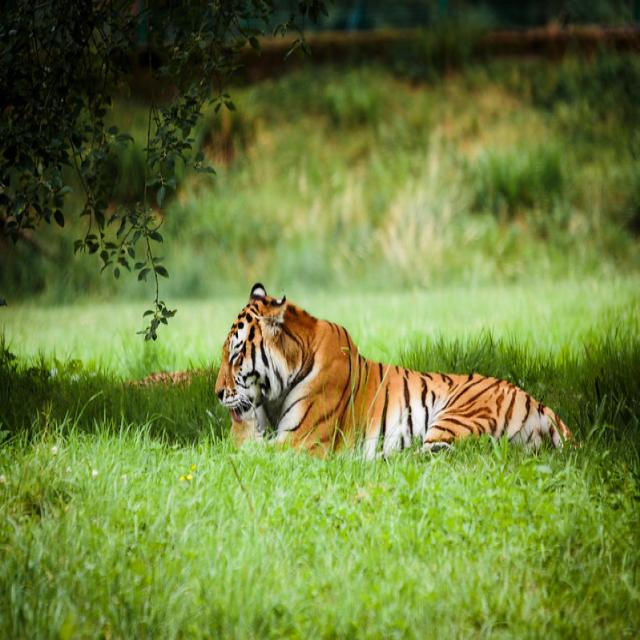Tiger: (213, 280, 573, 454)
